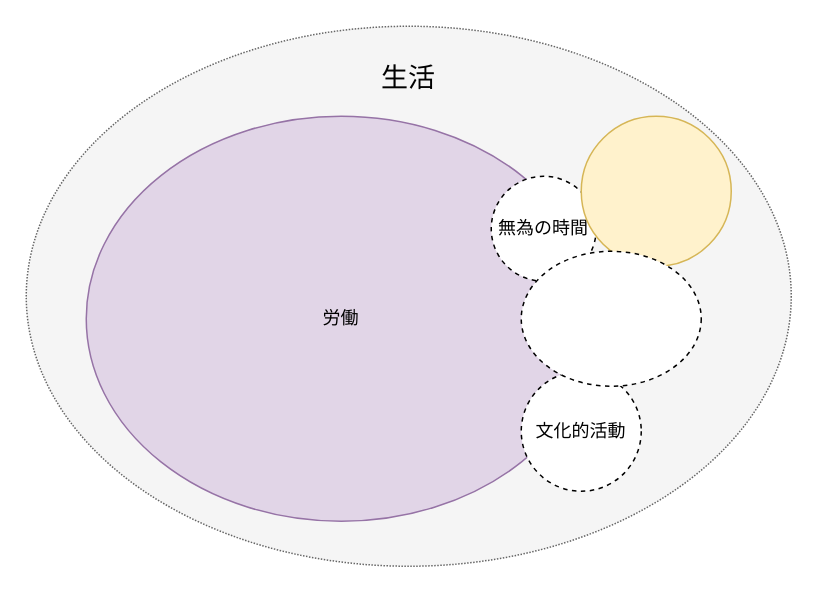
Some shapes in this 818 by 593 pixel diagram are drawn without their labels. The centre of each missing label's shape, as x and y in pixels:
"創作" goes at point 655,190.
"生命維持 （食事・睡眠）" goes at point 610,318.
